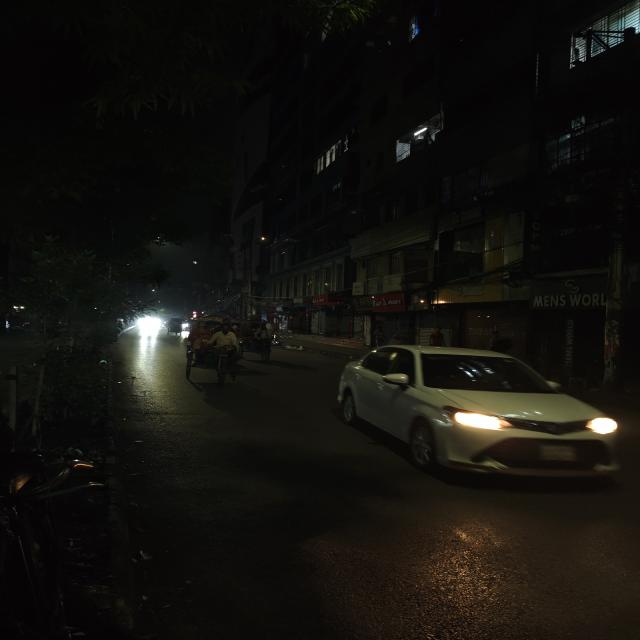car: (327, 334, 628, 496)
cng: (167, 316, 183, 336)
rickshaw: (182, 315, 240, 386), (236, 318, 279, 360)
